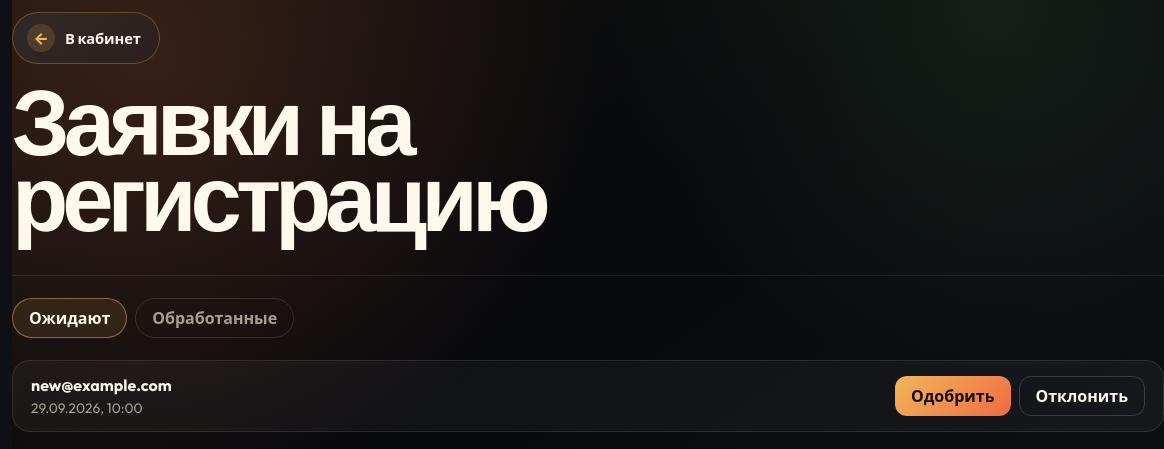
Test: AdminPage › lists pending requests and approves one
The width and height of the screenshot is (1164, 449).
Expected: the text "new@example.com" is shown, left=31, top=375, right=172, bottom=395
Click the button "Одобрить": (953, 396) left=895, top=376, right=1010, bottom=416
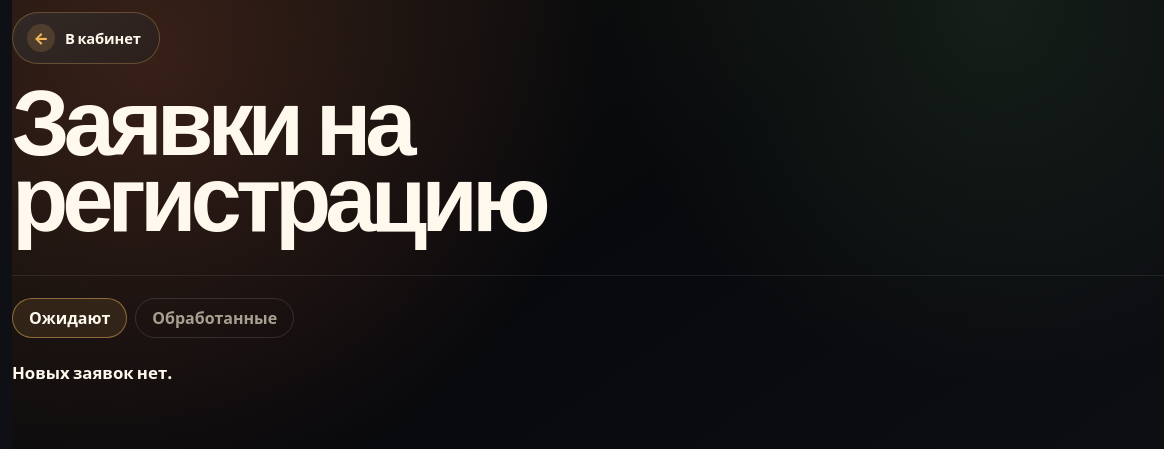
Expected: the text "new@example.com" is gone
